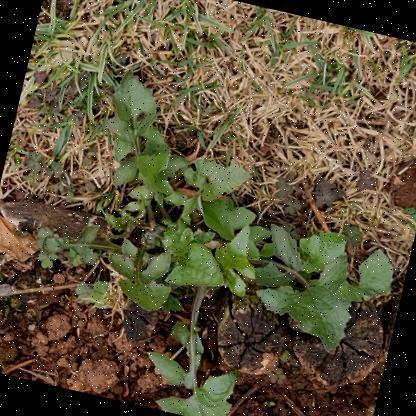Weeds: (4, 58, 415, 415)
